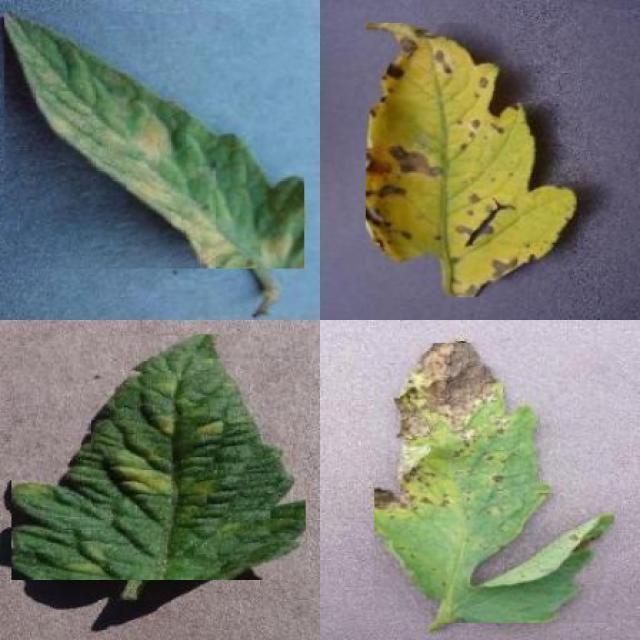Leaf Mold: (5, 12, 305, 268), (12, 334, 305, 580)
Septoria: (375, 343, 614, 623), (366, 23, 577, 297)
